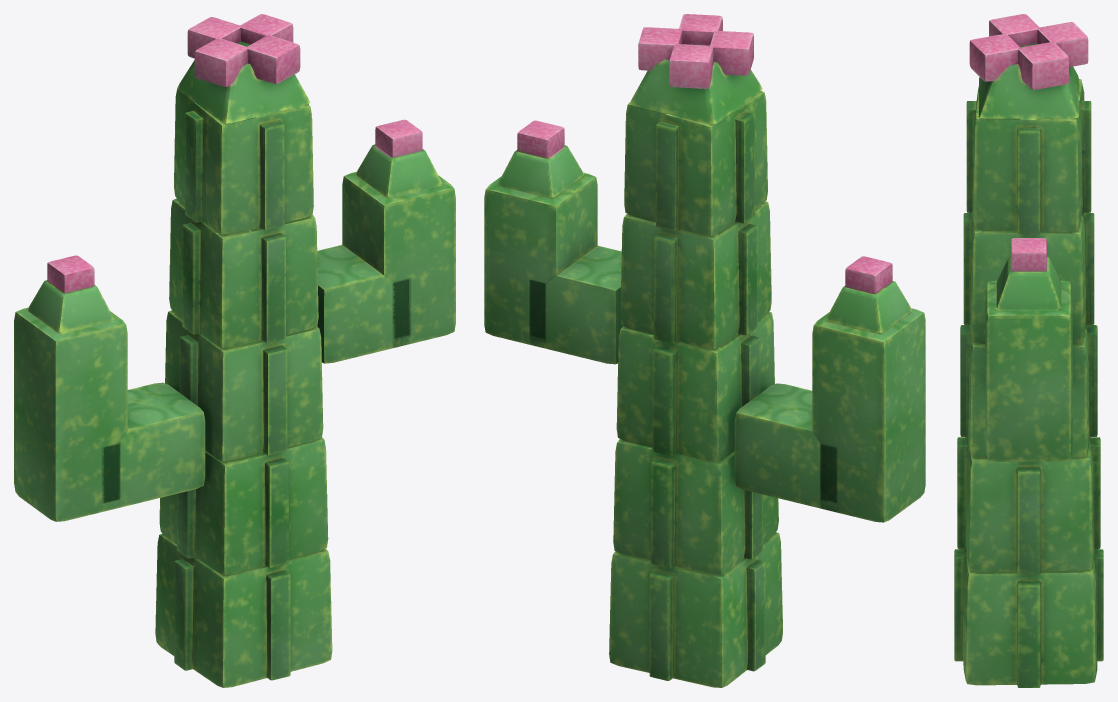
Rendered from Desert_Saguaro.fbx.
3 renders of one model, left to right at view 1: azimuth 30°, elevation 25°; view 2: azimuth 150°, elevation 25°; view 3: azimuth 270°, elevation 25°, orthographic.
Visible parts, largest first — view 1: Desert_Saguaro; view 2: Desert_Saguaro; view 3: Desert_Saguaro.
Part boxes in pixels (x1=…): Desert_Saguaro: x1=14, y1=14, x2=455, y2=687; Desert_Saguaro: x1=484, y1=14, x2=925, y2=687; Desert_Saguaro: x1=954, y1=14, x2=1103, y2=687.
Size of the model in its own units: 910 by 1330 by 290.
1 material, 1 textured.
